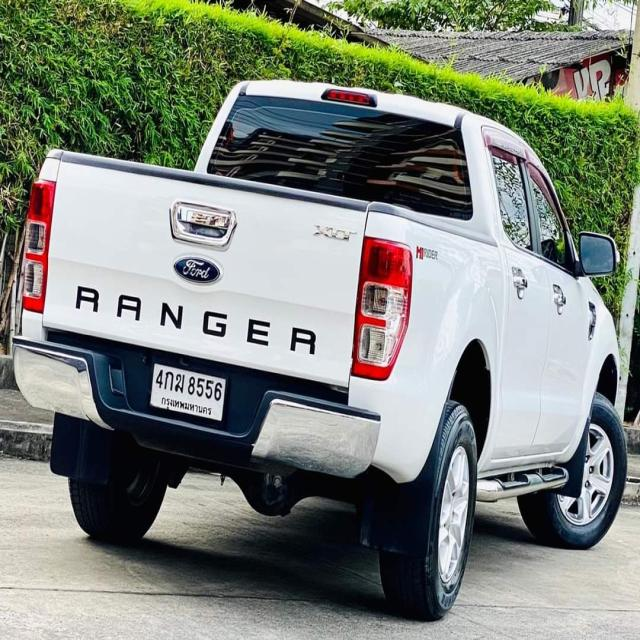license_plate: (145, 359, 229, 428)
